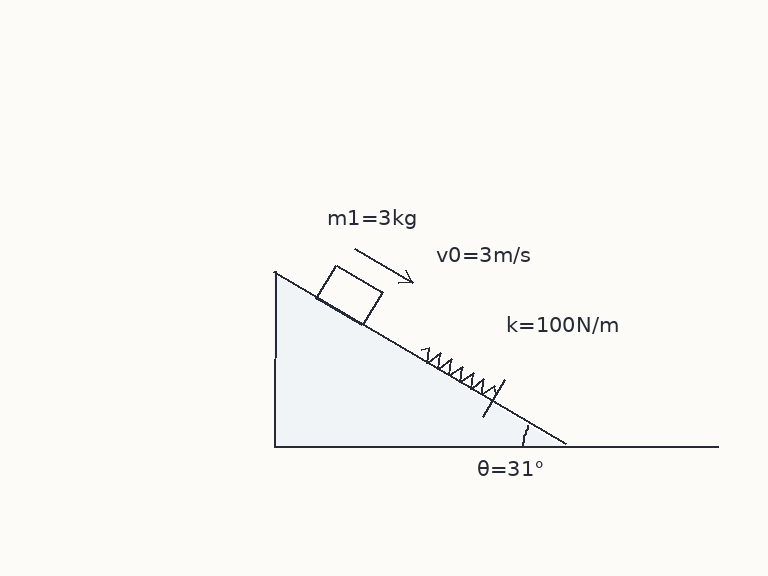block: (314, 262, 384, 327)
ramp: (272, 270, 565, 448)
spring: (418, 345, 497, 397)
